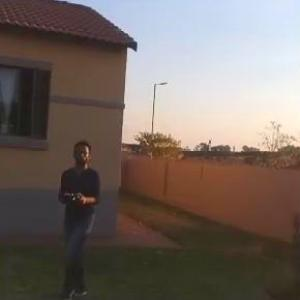follow: (50, 137, 103, 299)
